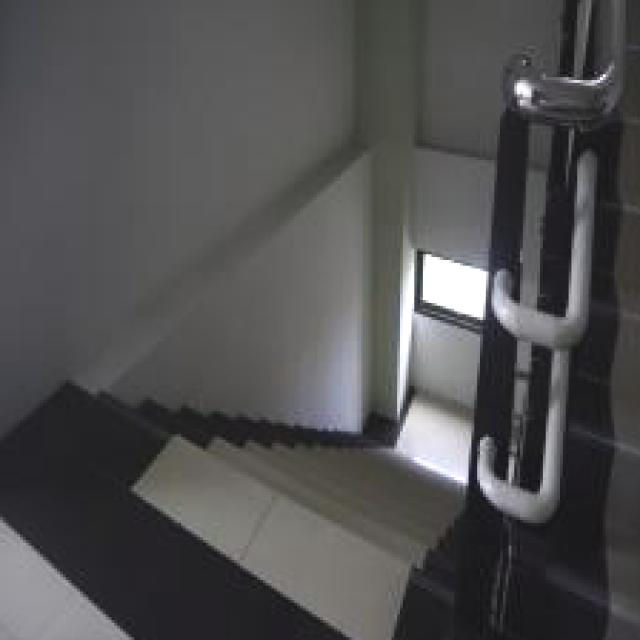downstair: (95, 458, 410, 635)
